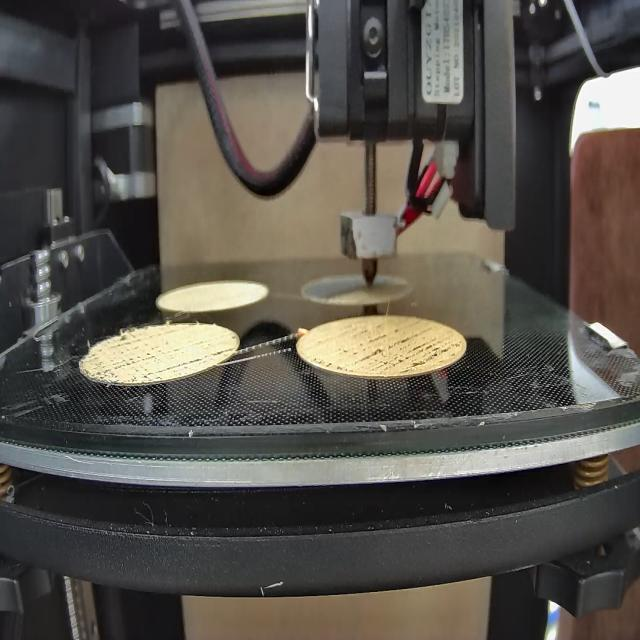under_extrusion: (315, 333, 464, 376), (83, 331, 161, 385), (166, 346, 236, 374)
